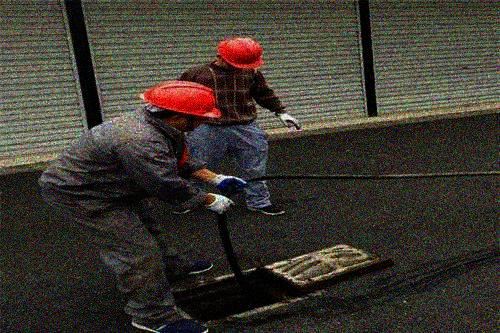helmet: (138, 79, 221, 132), (215, 36, 264, 73)
